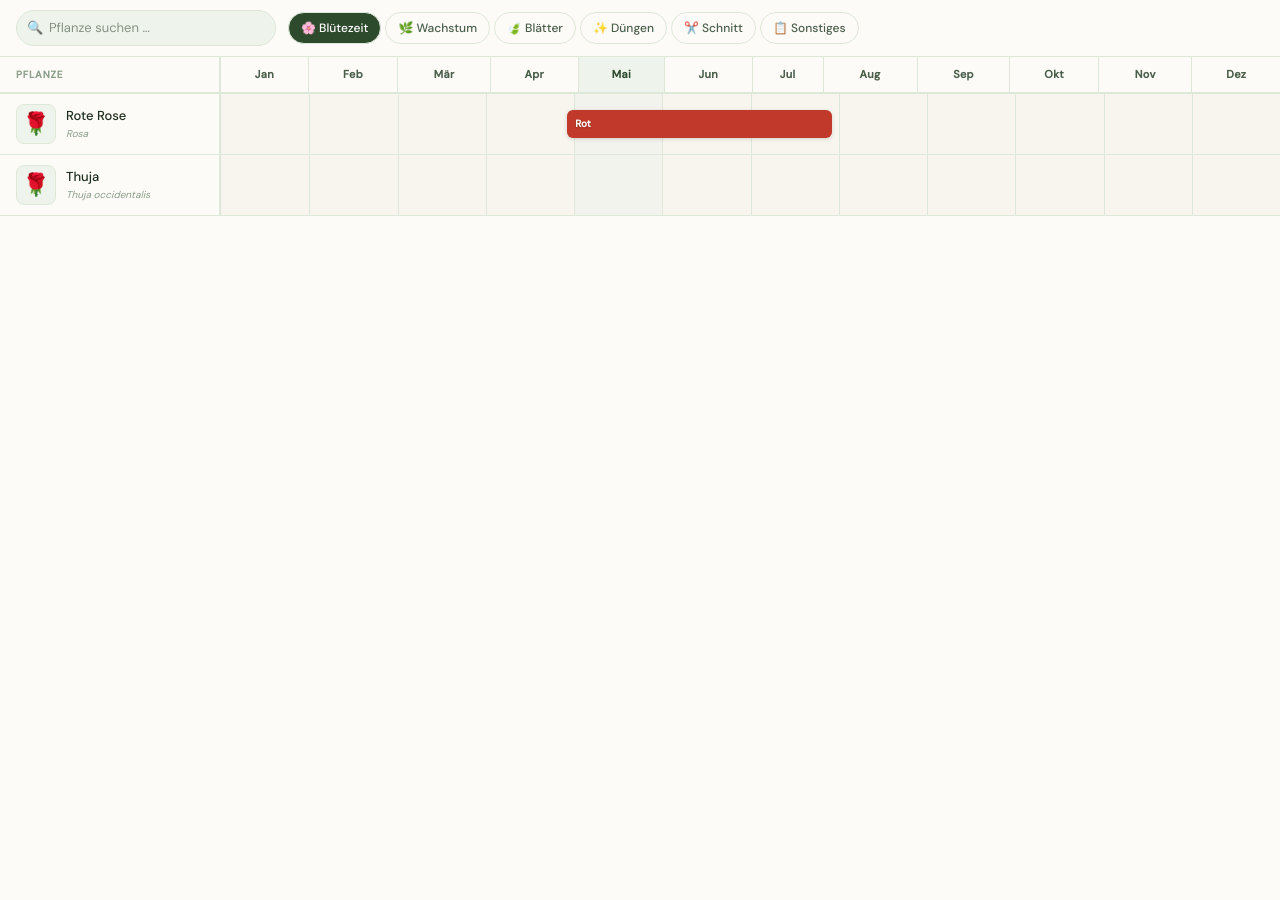
CalendarView — detail panel (AC #6) › clicking same row again closes detail panel
Step 1. Click the row with test id "calendar-plant-row" showing "🌹 Rote Rose Rosa Rot" → (640,123), box [0,92,1279,154]
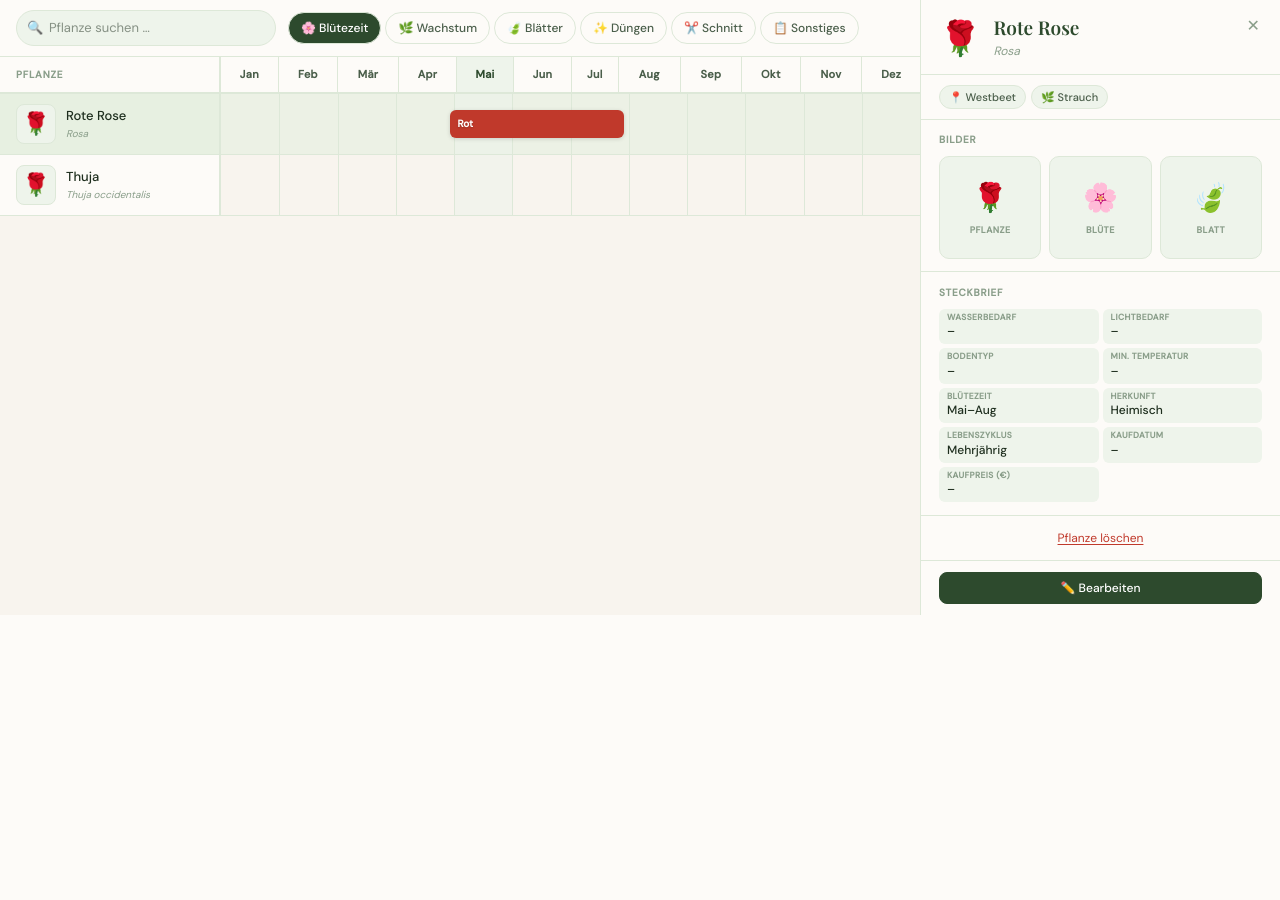
Result: the button with test id "detail-close" is shown at [1245,16,1262,36]
Step 2. Click the row with test id "calendar-plant-row" showing "🌹 Rote Rose Rosa Rot" → (460,123), box [0,92,920,154]
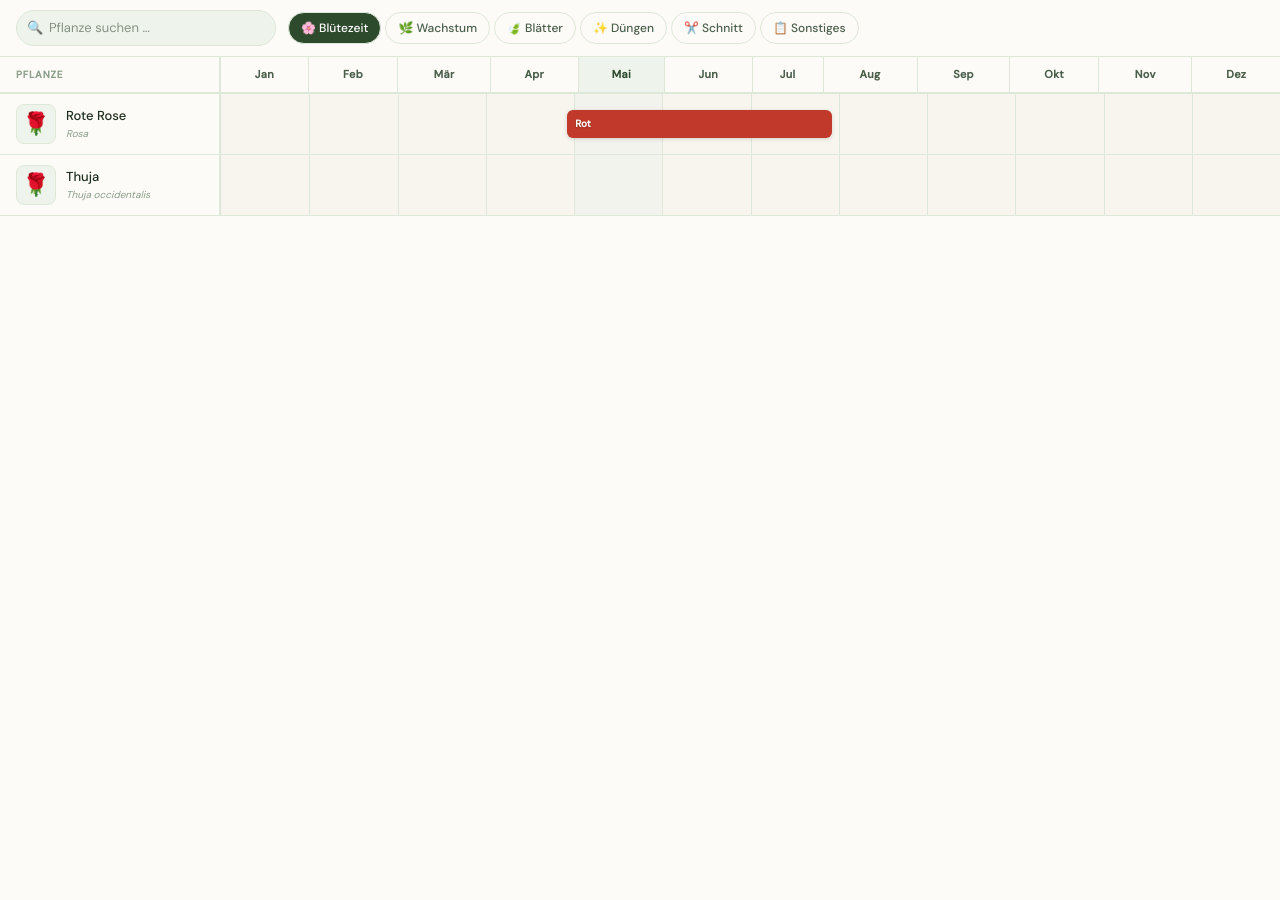
Result: the button with test id "detail-close" is gone
